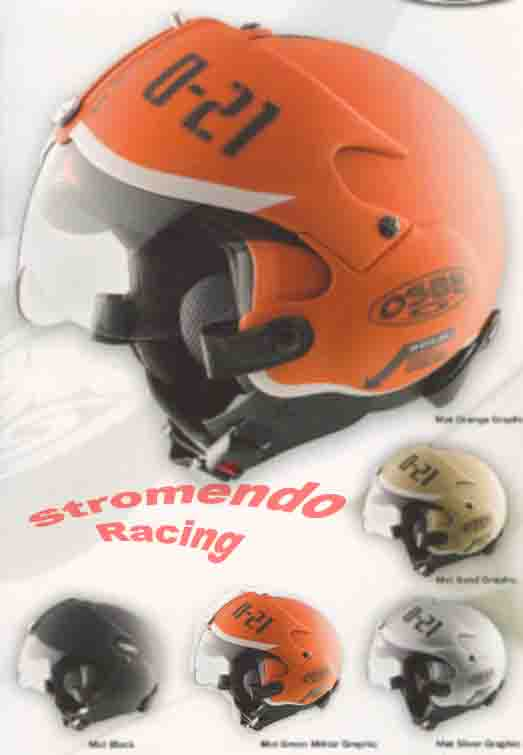helmet: (17, 61, 510, 470), (369, 591, 510, 726), (377, 440, 507, 554), (201, 597, 337, 702), (46, 602, 155, 711)
